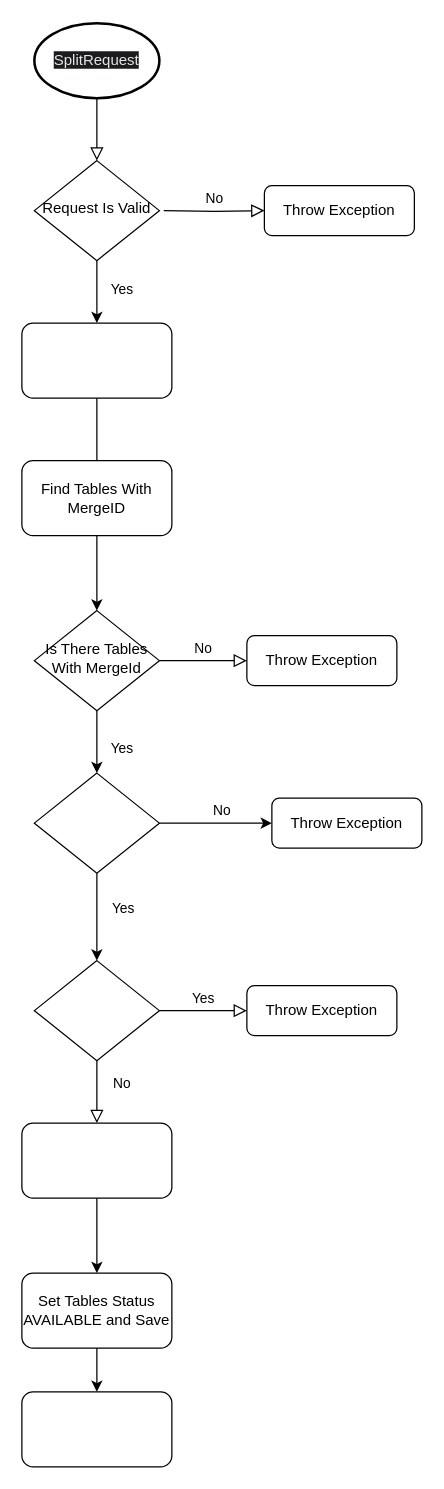
The diagram is 444 pixels wide and 1489 high, and some of its shapes have lost their labels. The box of each missing label's shape, as (x1, y1, x2, y2) in pixels:
Create New MergeId For EachTables And Set They MergIds: (21, 1122, 172, 1198)
END: (21, 1391, 172, 1467)
Is TheTables Are More Than One: (33, 772, 159, 873)
Map Split Command: (21, 322, 172, 398)
Tables Status Are Taking Orders?: (33, 959, 159, 1061)
